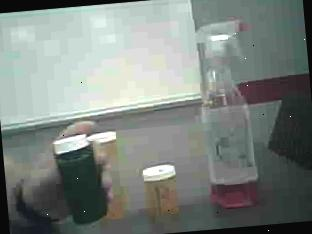Bottle A: (99, 130, 132, 218)
Bottle B: (137, 159, 187, 223)
Bottle C: (48, 135, 106, 226)
hazard: (190, 16, 270, 218)
